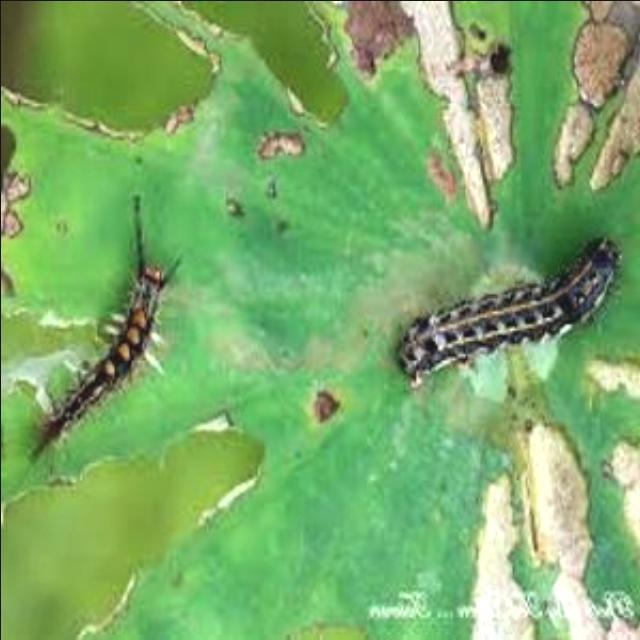Tobacco cutworm: (0, 179, 230, 503), (353, 203, 631, 449)
